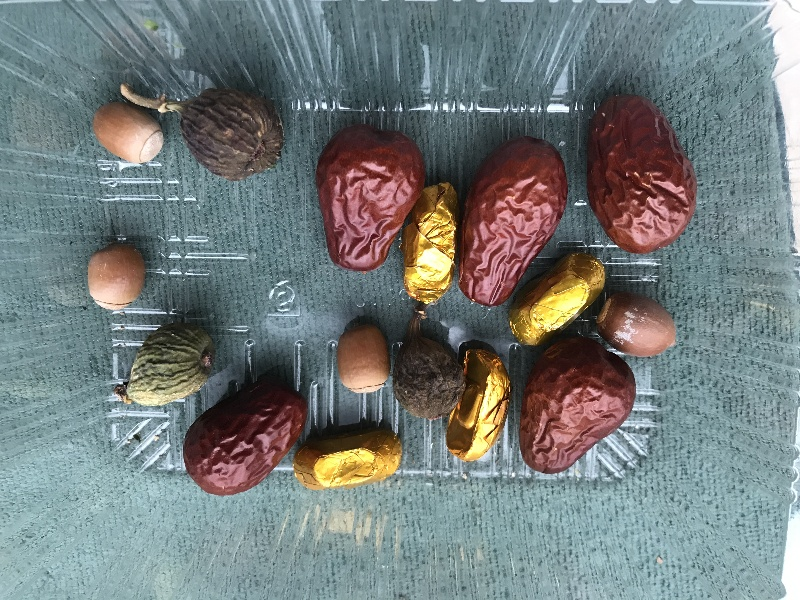date: (455, 136, 568, 307), (585, 92, 700, 255), (317, 124, 426, 274), (520, 337, 636, 474), (182, 382, 308, 499)
fig: (119, 81, 285, 179), (113, 324, 220, 408), (390, 309, 465, 418)
hazelnut: (592, 294, 684, 358), (90, 99, 164, 164), (85, 242, 149, 316), (333, 326, 391, 391)
